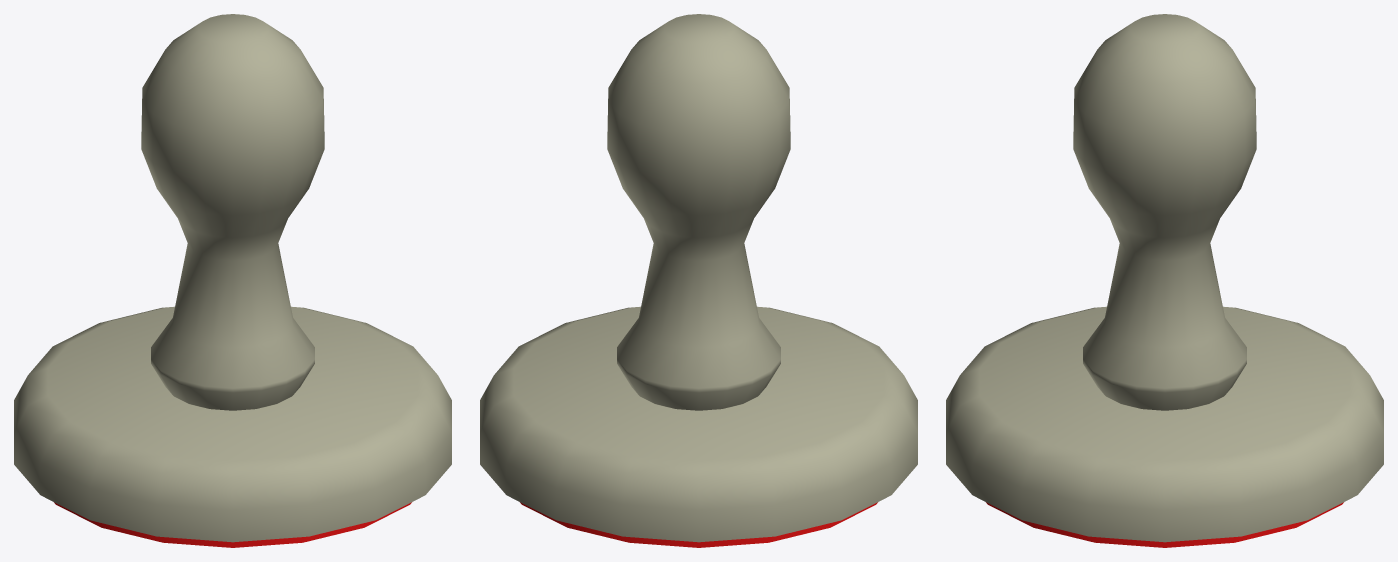
The model's file is Stamper.FBX.
3 views of the same model, side by side, from view 1: azimuth 30°, elevation 25°; view 2: azimuth 150°, elevation 25°; view 3: azimuth 270°, elevation 25° (orthographic).
Visible parts, largest first — view 1: Cylinder001; view 2: Cylinder001; view 3: Cylinder001.
Part boxes in pixels (bbox=[...]): Cylinder001: bbox=[14, 14, 451, 547]; Cylinder001: bbox=[480, 14, 917, 547]; Cylinder001: bbox=[946, 14, 1383, 547].
Bounding box in the file's own units: 3.94 × 4.33 × 3.88.
